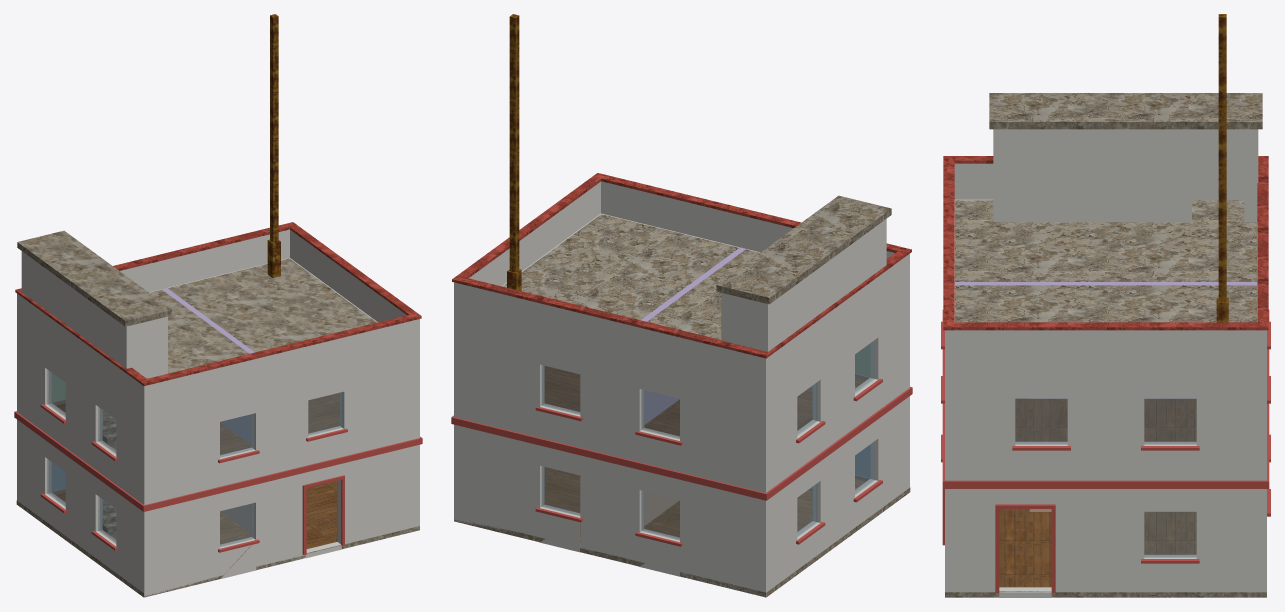
File: coastguard-station.zfix-v7.lod0.glb
The picture shows the model from 3 angles, left to right: view 1: azimuth 30°, elevation 25°; view 2: azimuth 150°, elevation 25°; view 3: azimuth 270°, elevation 25°; orthographic projection. The views are drawn at different scales.
Visible parts, largest first — view 1: coastguard-station; view 2: coastguard-station; view 3: coastguard-station.
Part boxes in pixels (x1=…): coastguard-station: x1=14, y1=14, x2=422, y2=597; coastguard-station: x1=451, y1=14, x2=912, y2=597; coastguard-station: x1=941, y1=14, x2=1270, y2=597.
Size of the model in its own units: 10.2 by 15.37 by 8.2.
5 materials, 3 textured.
